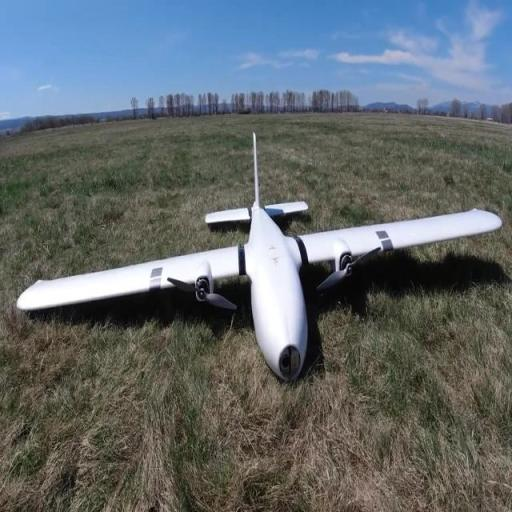uav: (14, 130, 506, 392)
